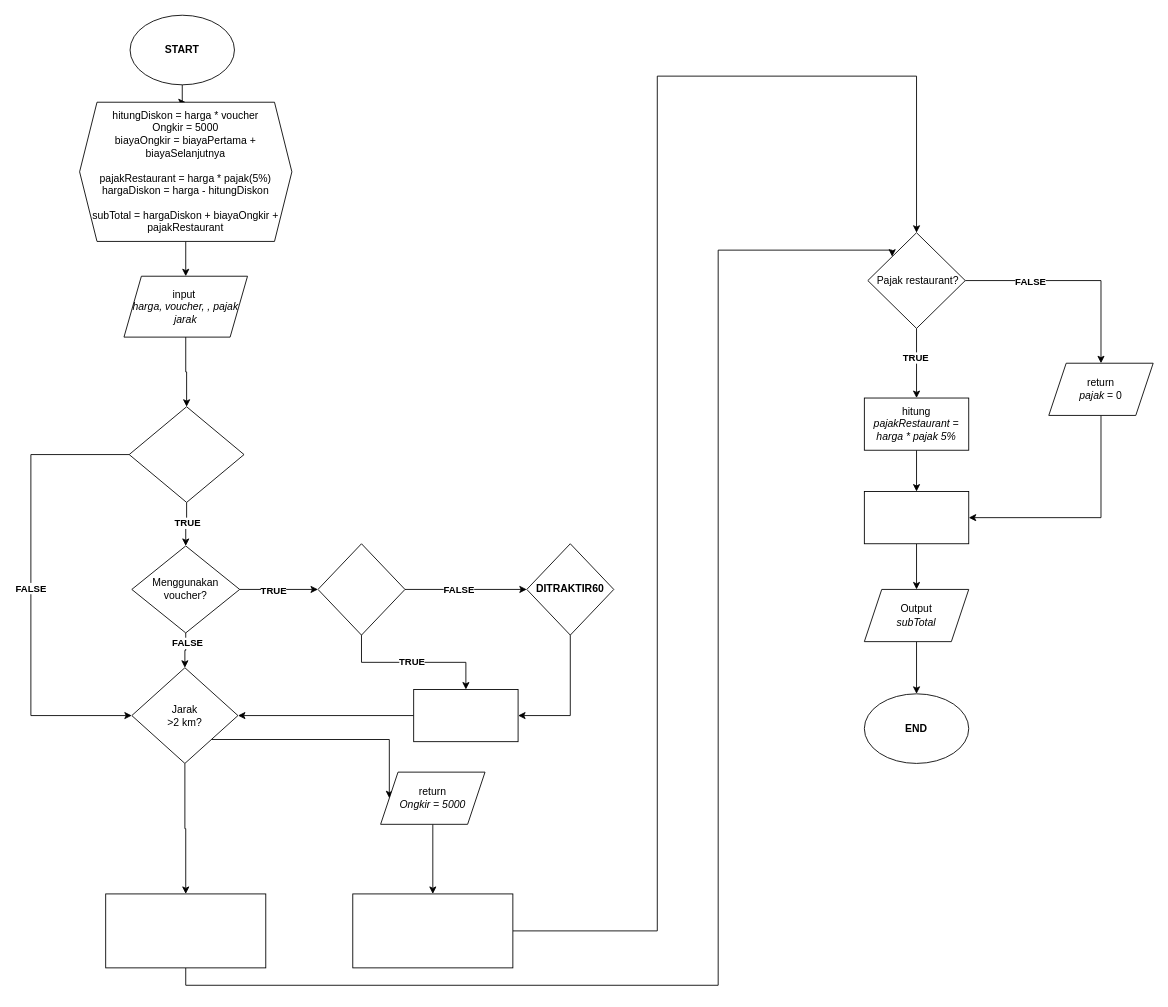
Image size: 1168x1007. Some labels were removed from this diagram. Each missing label, with the centre of its shape:
FAZZFOOD50: the point at 361,589
harga >= 25000 && harga >= 50000?: the point at 186,454
hitung biayaOngkir = biayaPertama + biayaSelanjutnya: the point at 185,930
hitung biayaOngkir = Ongkir: the point at 432,930
hitungDiskon = harga * voucher: the point at 465,715
subtotal = ( harga + biayaOngkir + pajakRestaurant ): the point at 916,517
